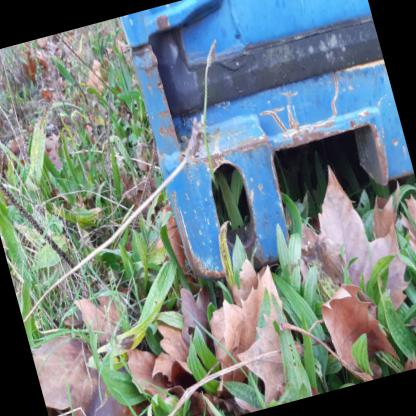CornerCasting: (154, 130, 296, 276)
